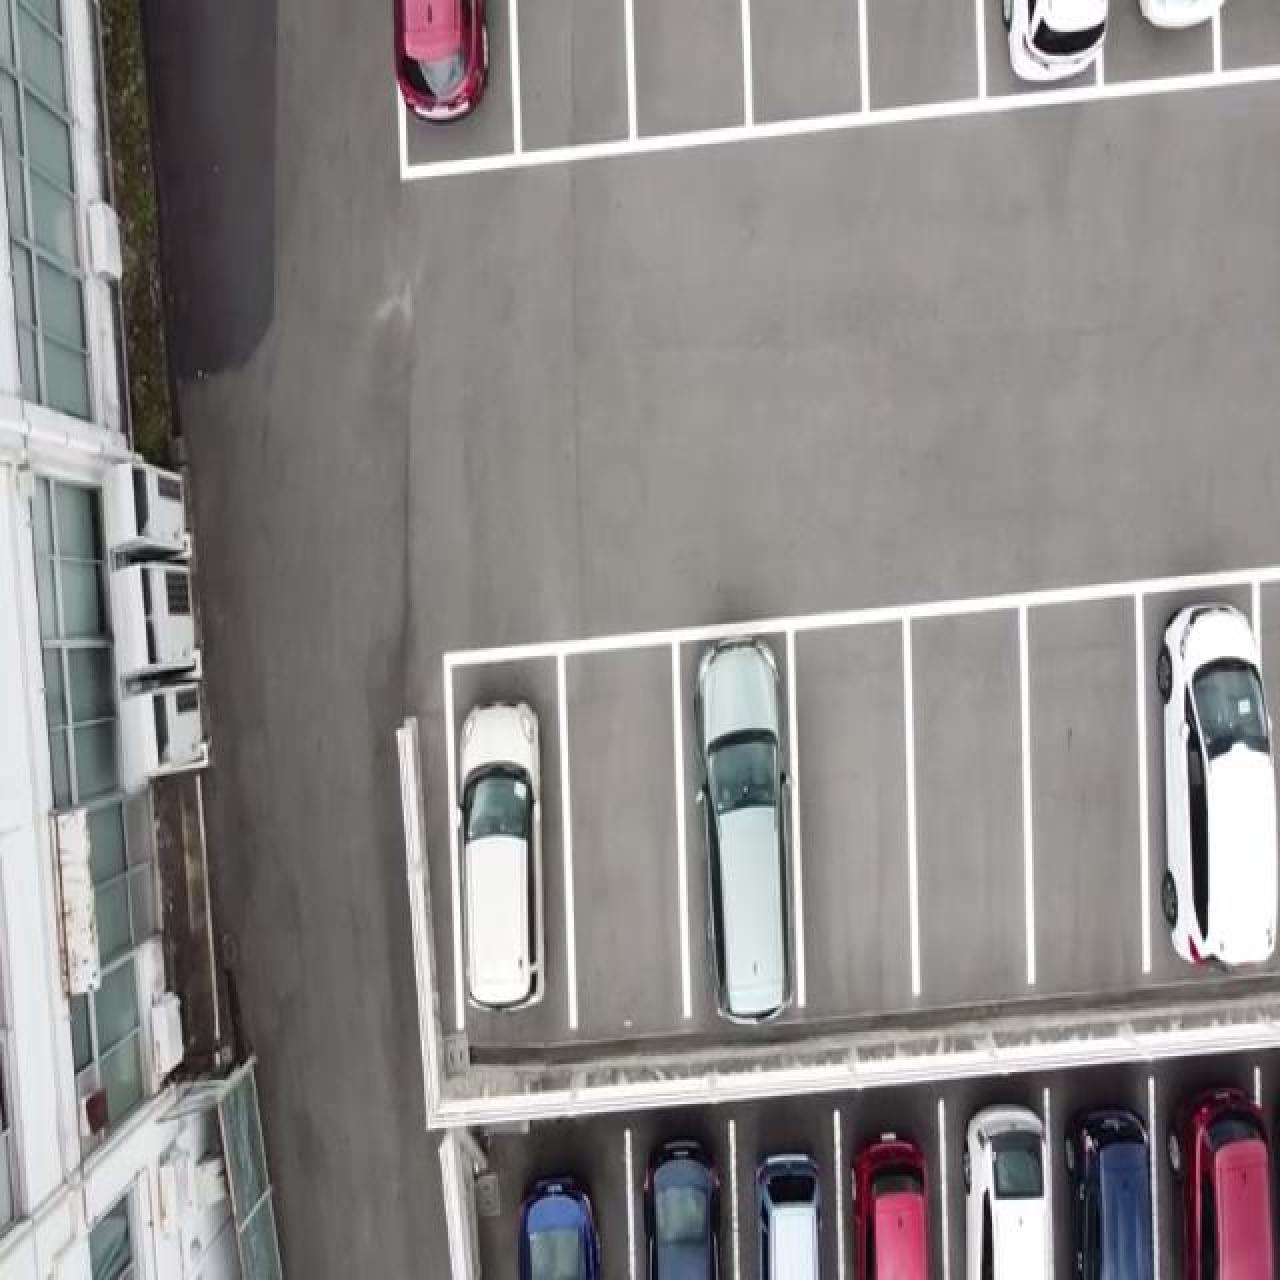car: (1155, 600, 1278, 971), (692, 636, 794, 1022), (454, 696, 544, 1010), (1176, 1084, 1276, 1278), (960, 1102, 1054, 1278), (1064, 1104, 1156, 1278), (390, 0, 490, 122), (850, 1130, 930, 1278), (640, 1136, 720, 1278), (516, 1170, 602, 1278), (998, 0, 1110, 82), (753, 1152, 821, 1278), (1136, 0, 1230, 28), (1272, 1082, 1278, 1278)
